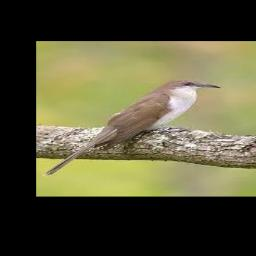Cuckoo: (43, 78, 221, 177)
